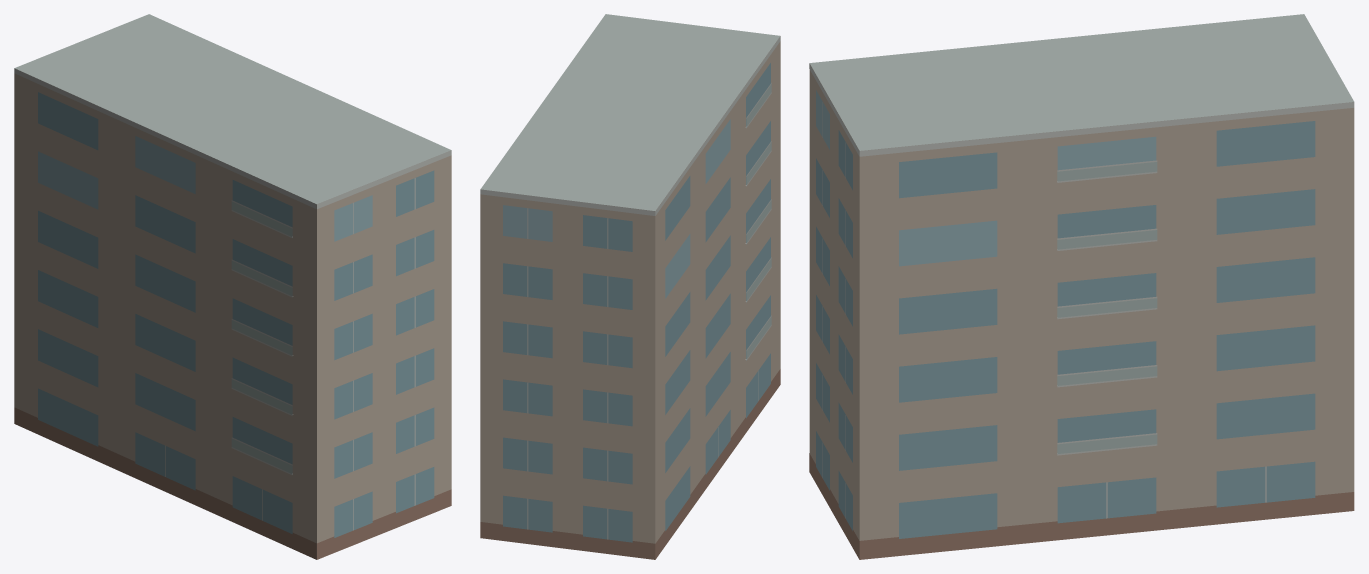
Rendered from survey-upis-32595738.glb.
3 views of the same model, side by side, from view 1: azimuth 30°, elevation 25°; view 2: azimuth 150°, elevation 25°; view 3: azimuth 270°, elevation 25° (orthographic). The views are drawn at different scales.
Parts seen in each view (by area): view 1: survey-upis-32595738.tmp; view 2: survey-upis-32595738.tmp; view 3: survey-upis-32595738.tmp.
Part boxes in pixels (bbox=[...]): survey-upis-32595738.tmp: bbox=[14, 14, 451, 559]; survey-upis-32595738.tmp: bbox=[480, 14, 780, 559]; survey-upis-32595738.tmp: bbox=[809, 14, 1354, 559].
Bounding box in the file's own units: 12.29 × 17.1 × 20.66.
